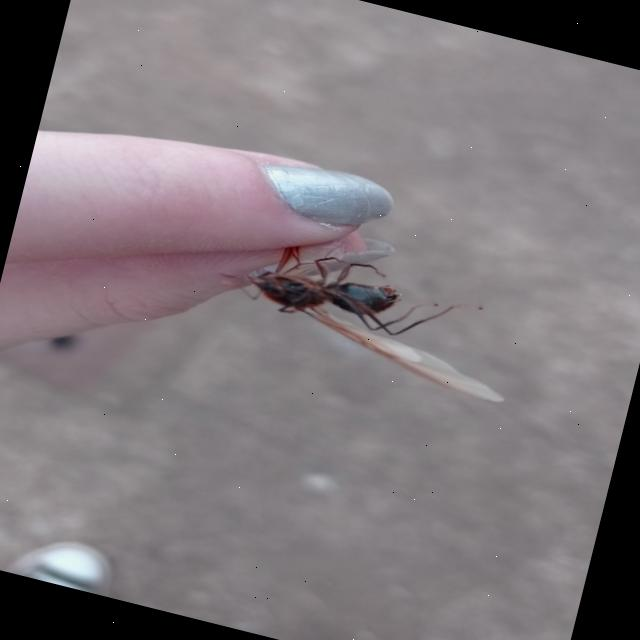Alive-Male-Alate: (202, 203, 534, 404)
